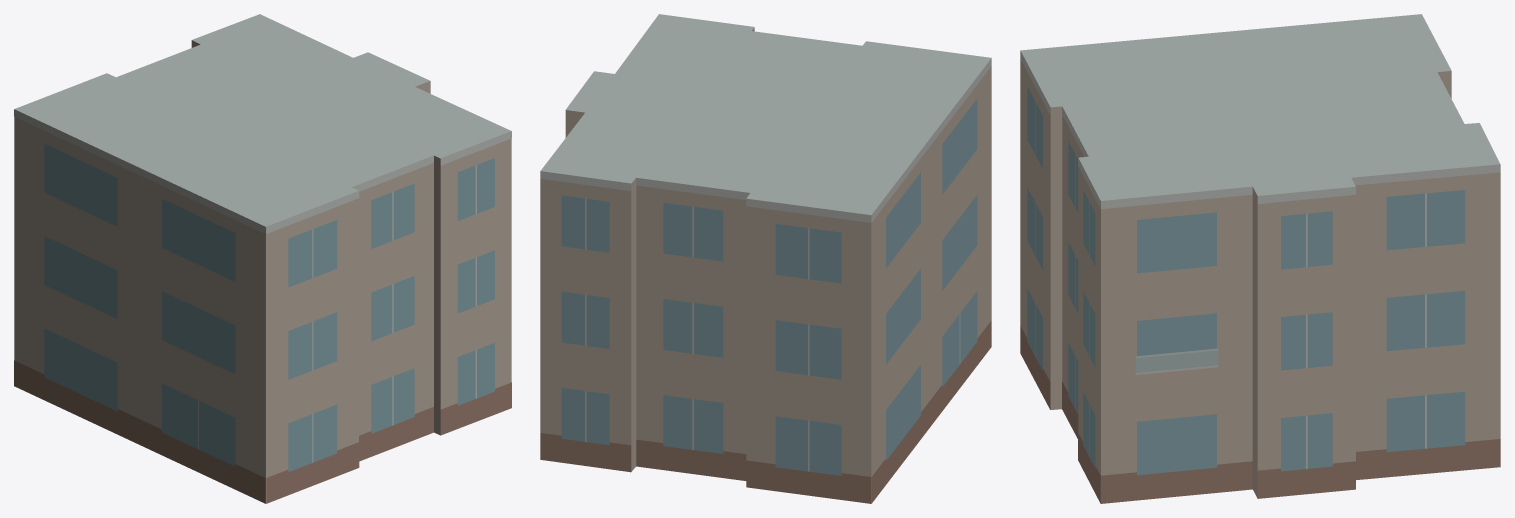
The model's file is survey-upis-32554425.glb.
3 views of the same model, side by side, from view 1: azimuth 30°, elevation 25°; view 2: azimuth 150°, elevation 25°; view 3: azimuth 270°, elevation 25° (orthographic). The views are drawn at different scales.
Parts seen in each view (by area): view 1: survey-upis-32554425.tmp; view 2: survey-upis-32554425.tmp; view 3: survey-upis-32554425.tmp.
Boxes of the visible parts, x1,y1,x2,y2 form: survey-upis-32554425.tmp: [14, 14, 511, 503]; survey-upis-32554425.tmp: [540, 14, 991, 503]; survey-upis-32554425.tmp: [1020, 14, 1500, 503].
Bounding box in the file's own units: 12.13 × 9.15 × 13.16.
